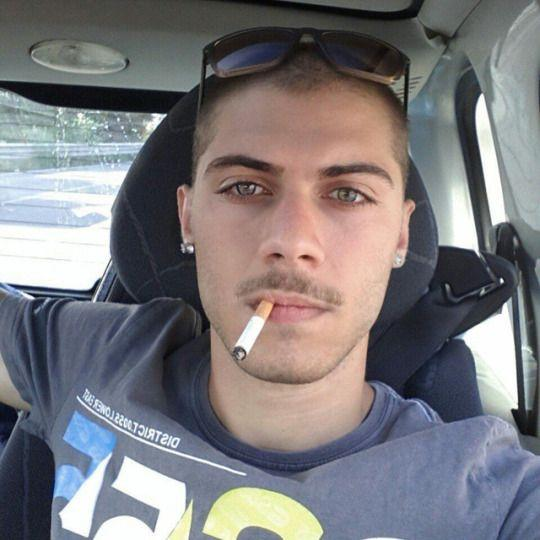cigarette: (231, 300, 274, 361)
